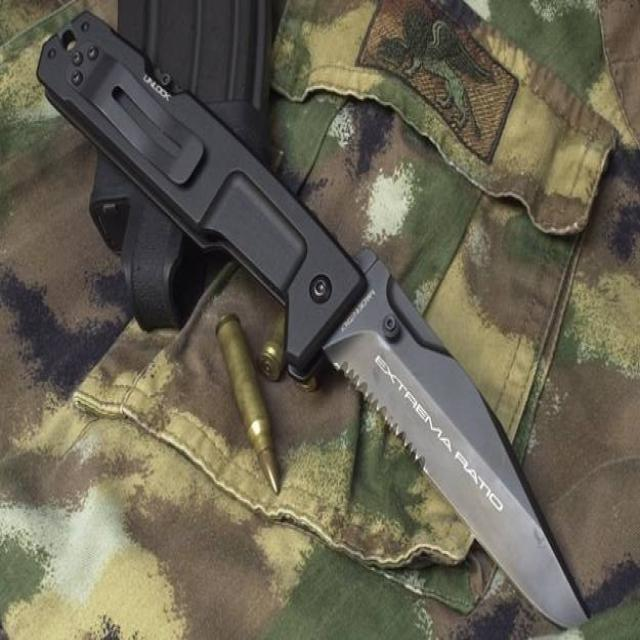knife: (33, 5, 599, 637)
